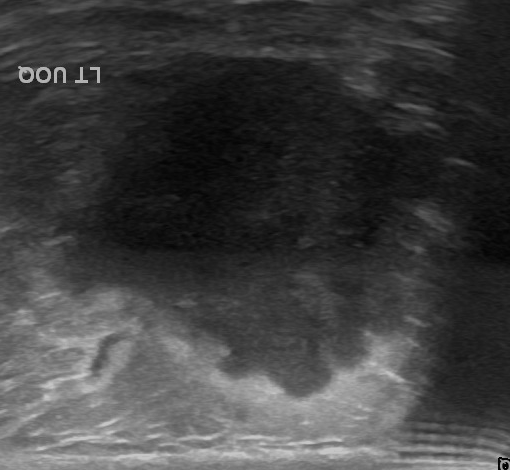Malignant: (21, 56, 390, 378)
